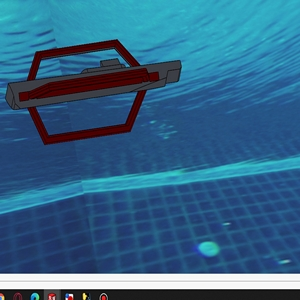submarine: (5, 38, 183, 146)
